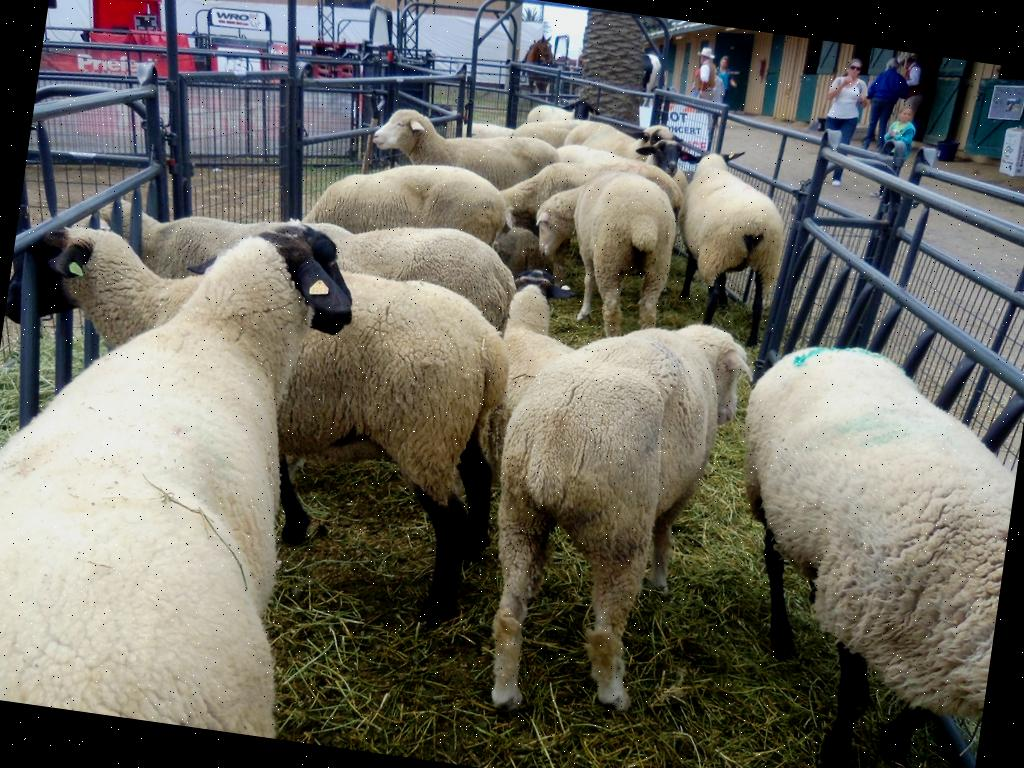Sheep: (0, 216, 529, 651), (0, 175, 372, 741), (697, 325, 1024, 768), (472, 293, 754, 743), (76, 176, 527, 316), (664, 144, 817, 330), (294, 145, 516, 252), (526, 178, 686, 320), (353, 92, 549, 186), (526, 86, 606, 126), (641, 140, 692, 186)
